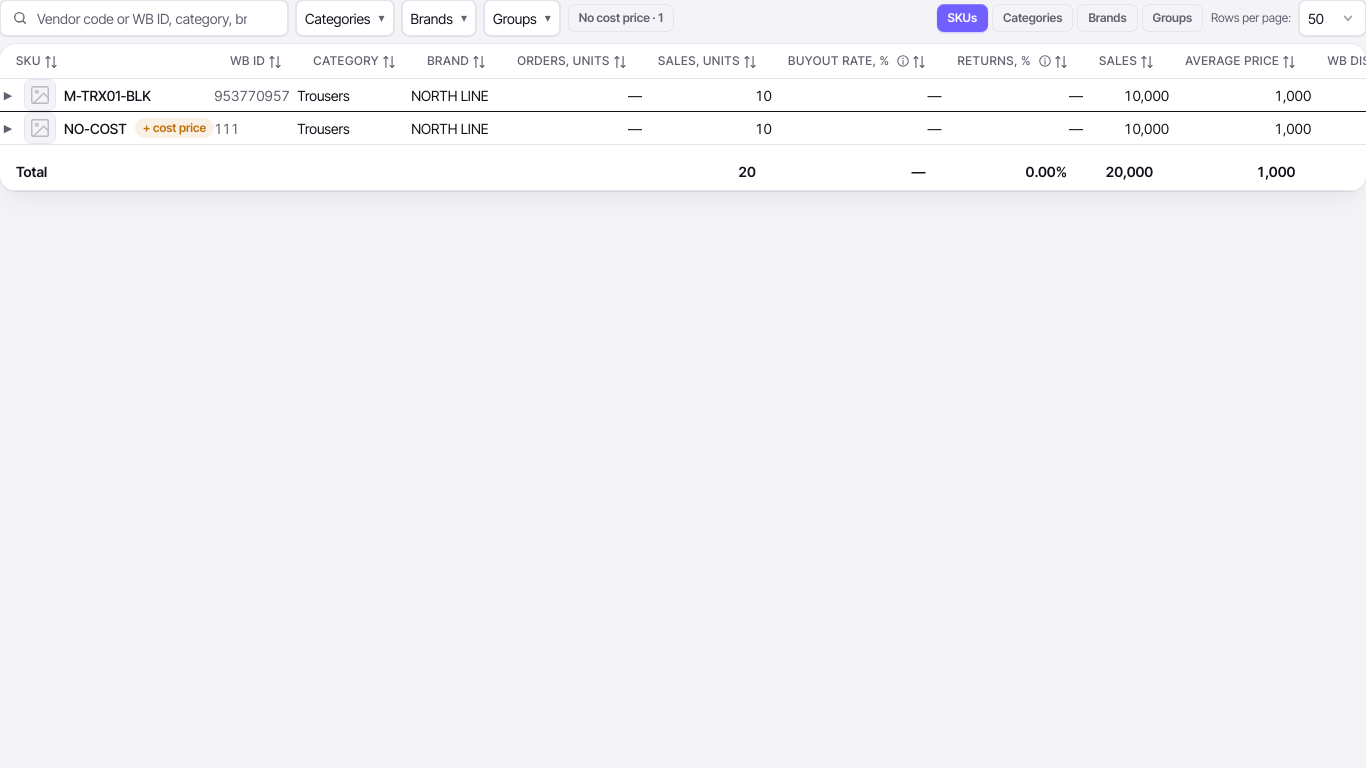
Test: articles with no cost price in the P&L › saves the typed cost through the page and closes the dialog
Click the button with test id "enter-cost" at (174, 128), box [135,118,214,138]
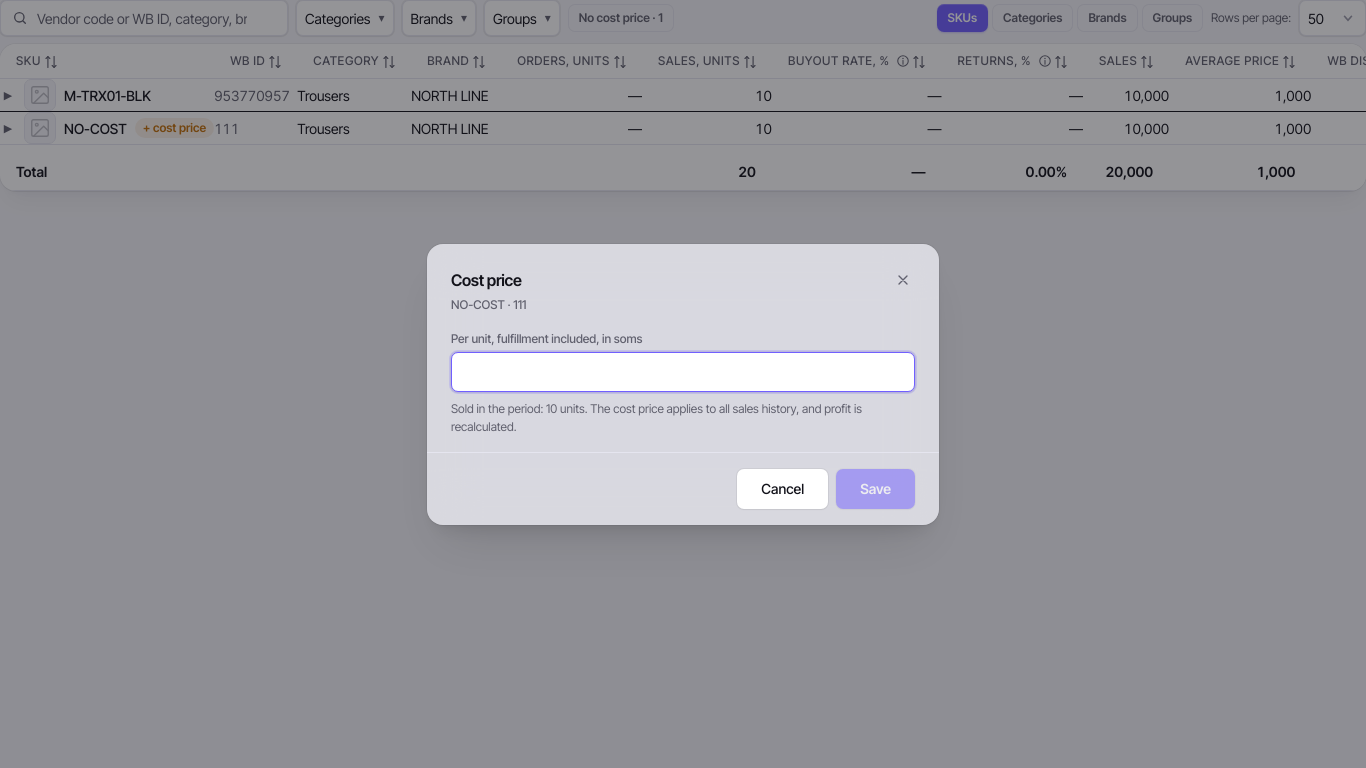
Type "795,50" into the field labelled "Per unit, fulfillment included, in soms" at (683, 372), box [451,352,915,392]
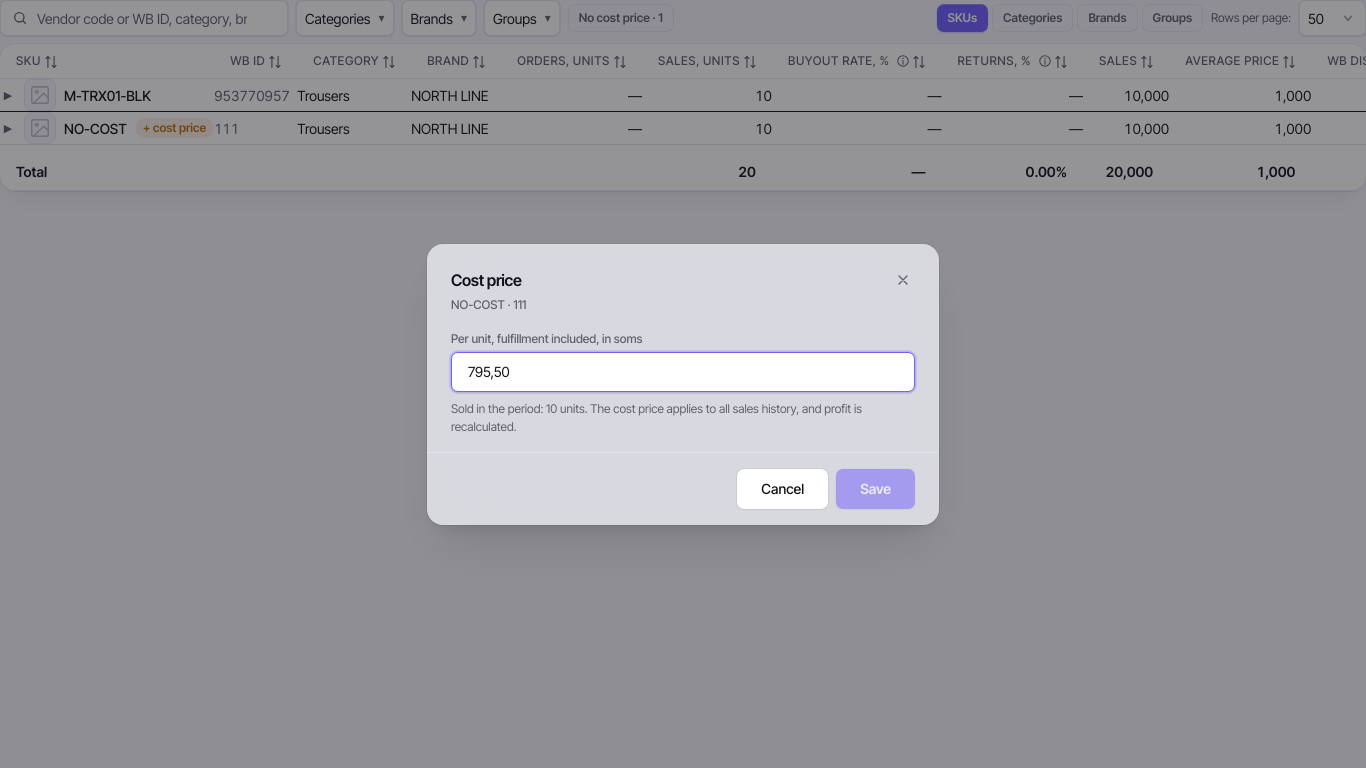
Submit the form, box [451,330,915,436]
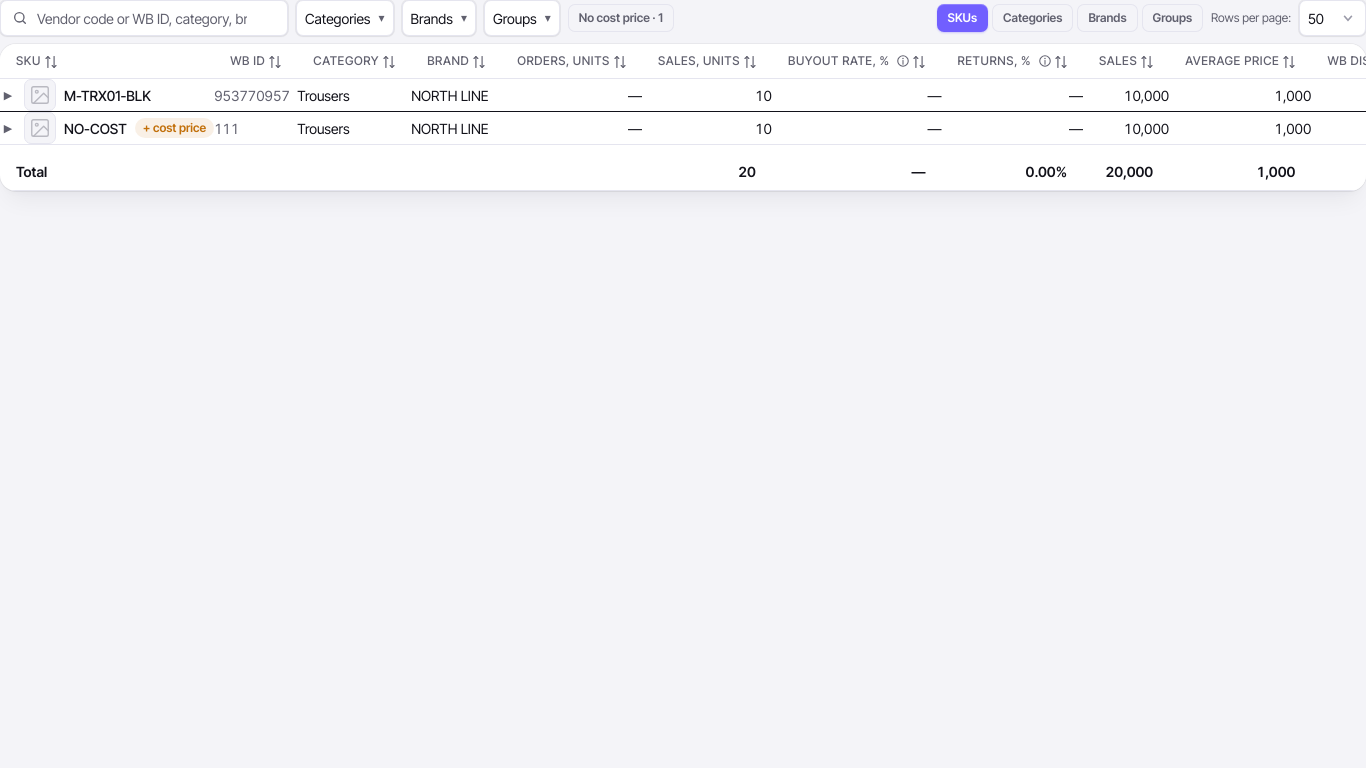
Expected: the dialog with test id "cost-dialog" is gone
